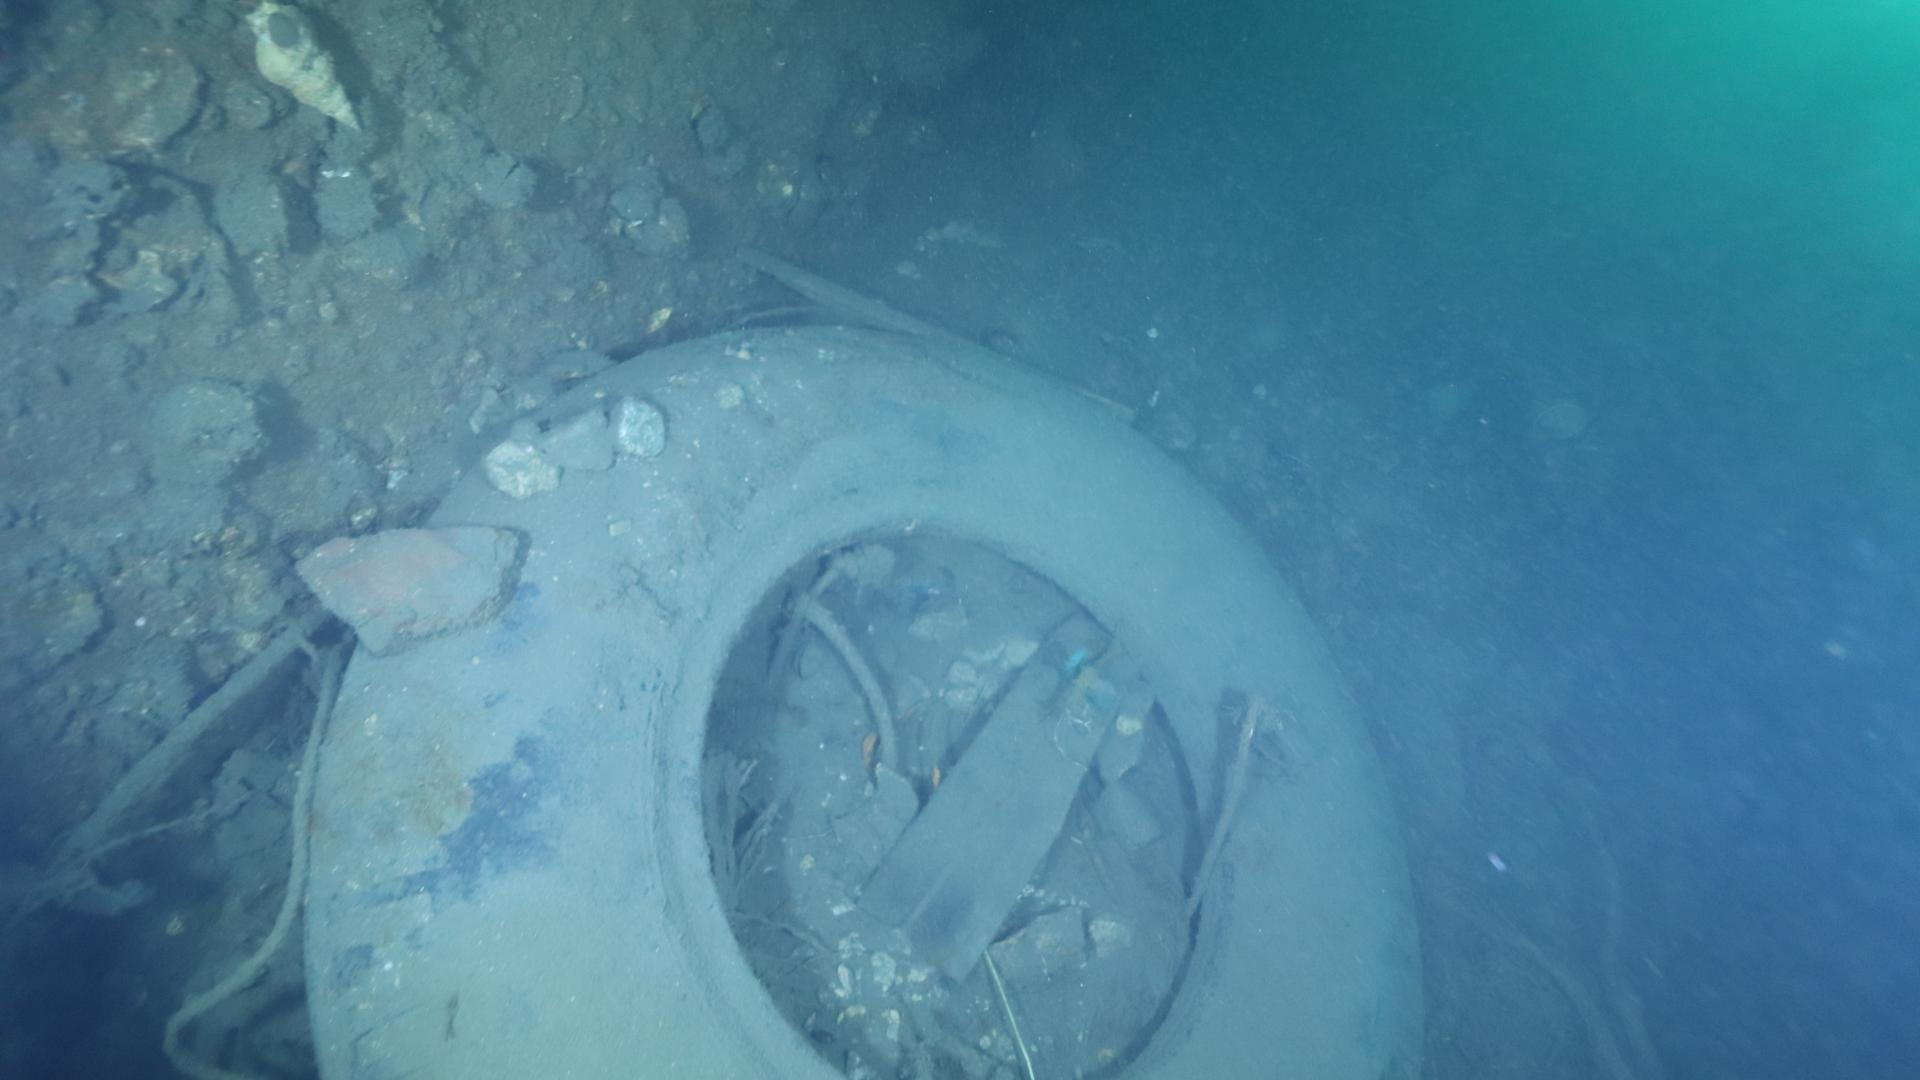tire: (302, 313, 1425, 1080)
